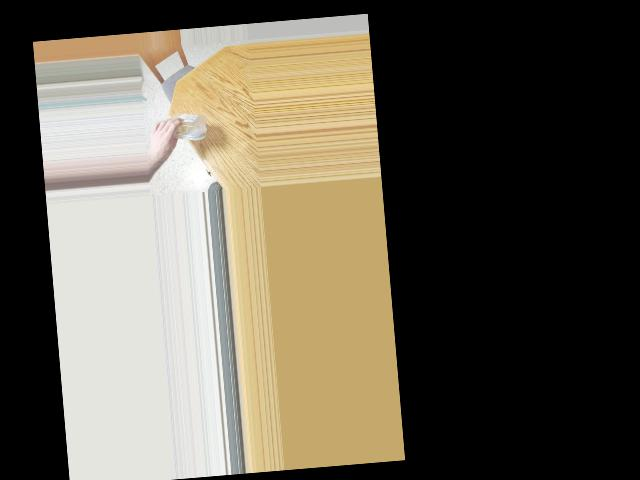cheese: (158, 109, 202, 147)
